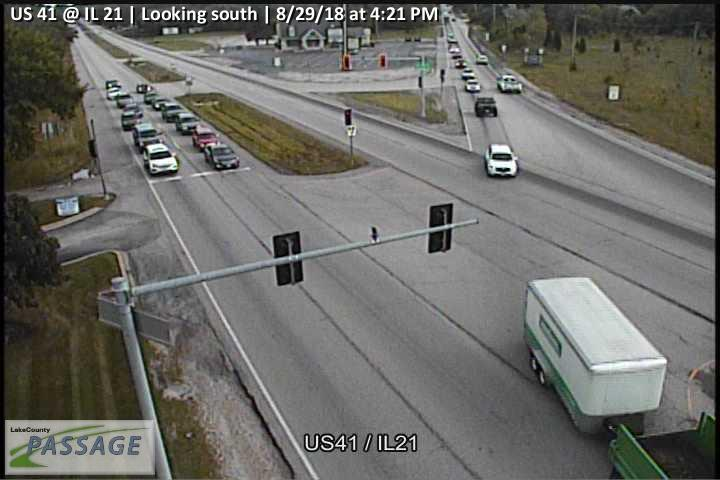SUV: (484, 143, 519, 177), (143, 143, 179, 176), (133, 123, 164, 155), (205, 143, 240, 169), (191, 126, 220, 151), (175, 111, 200, 136), (161, 101, 185, 123), (475, 96, 497, 116), (465, 78, 480, 92), (461, 67, 475, 79), (475, 54, 488, 64)
Truck: (522, 275, 716, 480), (496, 74, 522, 93), (121, 111, 143, 131)
